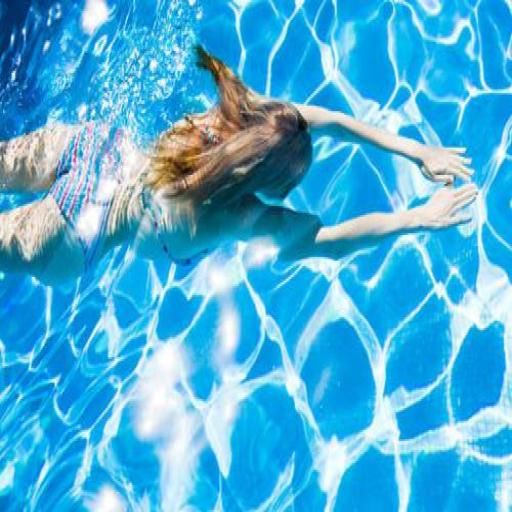swimming: (0, 40, 479, 290)
